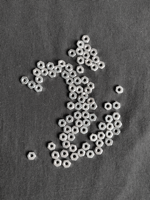nut: (27, 152, 36, 161), (51, 151, 60, 160), (60, 150, 69, 159), (67, 133, 76, 142), (48, 142, 56, 151), (70, 153, 79, 161), (77, 149, 86, 157), (86, 151, 95, 159), (95, 147, 104, 155), (97, 132, 106, 140), (105, 131, 114, 139), (105, 115, 114, 123), (58, 120, 67, 128), (66, 115, 74, 124), (37, 61, 45, 70), (48, 70, 57, 78), (54, 65, 62, 74), (81, 76, 89, 85), (68, 49, 76, 58), (54, 159, 62, 167), (63, 161, 71, 169), (69, 145, 77, 153), (63, 141, 71, 149), (82, 143, 90, 151), (105, 139, 113, 147), (90, 134, 98, 142), (113, 128, 121, 136), (99, 123, 107, 131), (107, 123, 115, 131), (113, 113, 121, 121), (113, 102, 121, 110), (116, 86, 124, 94), (60, 134, 68, 142), (64, 126, 72, 134), (75, 120, 83, 128), (83, 119, 91, 127), (74, 112, 82, 120), (82, 111, 90, 119), (89, 114, 97, 122), (67, 102, 75, 110), (82, 103, 90, 111), (69, 92, 77, 100), (85, 86, 93, 94), (87, 82, 95, 90), (76, 86, 84, 94), (66, 77, 74, 85), (28, 81, 36, 89), (35, 85, 43, 93), (35, 76, 43, 84), (33, 69, 41, 77), (41, 68, 49, 76), (58, 60, 66, 68), (74, 77, 82, 85), (69, 70, 77, 78), (76, 66, 84, 74), (77, 57, 85, 65), (85, 59, 93, 67), (98, 61, 106, 69), (90, 48, 98, 56), (76, 48, 84, 56), (84, 44, 92, 52), (82, 35, 90, 43), (114, 121, 123, 128), (72, 126, 79, 135), (81, 126, 88, 135), (96, 140, 104, 147), (105, 103, 112, 111), (75, 103, 82, 111), (90, 103, 98, 110), (78, 96, 86, 103), (69, 85, 76, 93), (21, 77, 29, 84), (47, 63, 55, 70), (62, 71, 69, 79), (66, 64, 73, 72), (91, 64, 99, 71), (93, 56, 100, 64), (83, 51, 90, 59), (77, 41, 85, 48), (88, 98, 95, 105), (81, 93, 88, 100)
